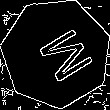M_SW: (23, 20, 89, 86)
